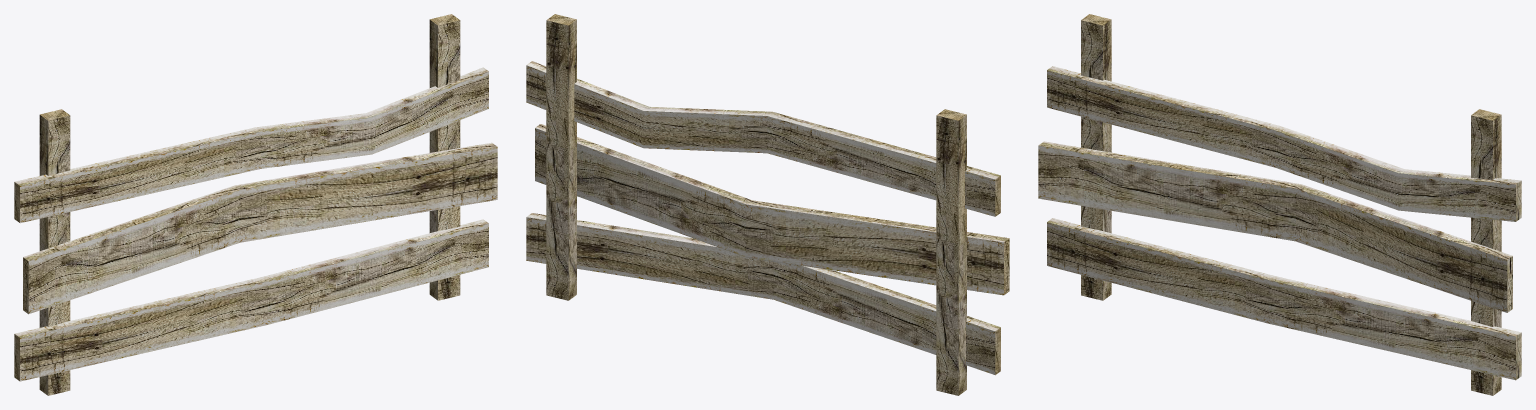
Rendered from fence_01.fbx.
The picture shows the model from 3 angles, left to right: view 1: azimuth 30°, elevation 25°; view 2: azimuth 150°, elevation 25°; view 3: azimuth 330°, elevation 25°; orthographic projection.
Parts seen in each view (by area): view 1: fence_01; view 2: fence_01; view 3: fence_01.
Boxes of the visible parts, x1=… form: fence_01: x1=14, y1=14, x2=497, y2=395; fence_01: x1=526, y1=14, x2=1009, y2=395; fence_01: x1=1038, y1=14, x2=1521, y2=395.
Bounding box in the file's own units: 2.88 × 1.61 × 0.351.
